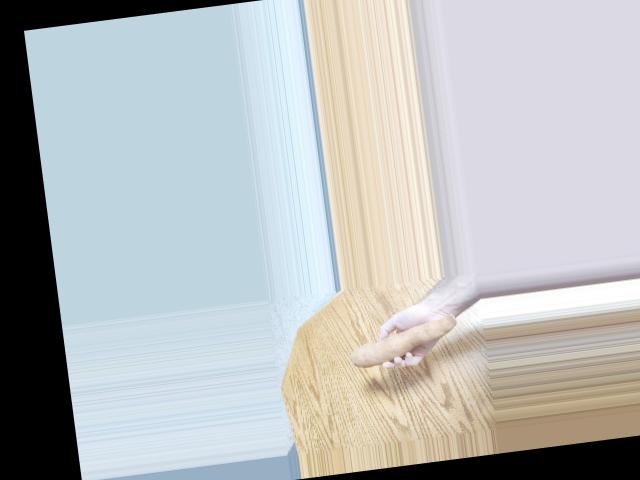sweet_potato: (344, 318, 456, 371)
